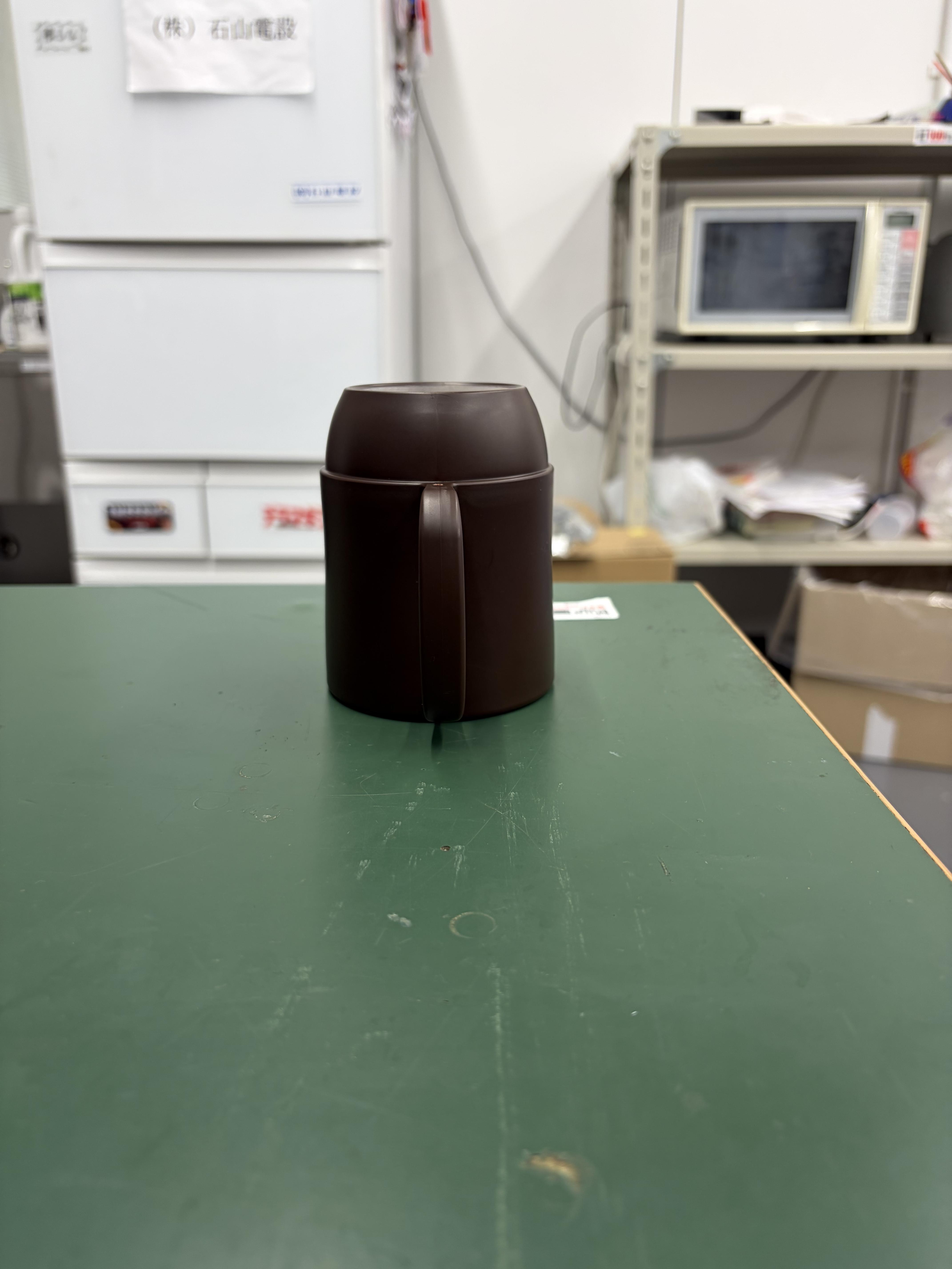mug-real100-3d100: (321, 383, 554, 724)
